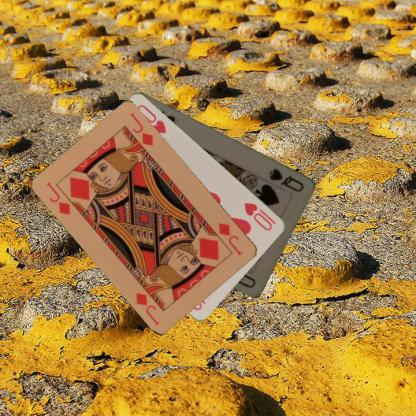10h: (241, 200, 274, 232)
Jd: (44, 180, 79, 216), (216, 220, 243, 257)
Qs: (267, 165, 306, 194)
